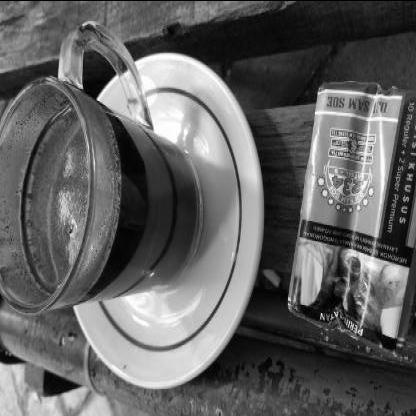objects: (289, 81, 415, 355)
